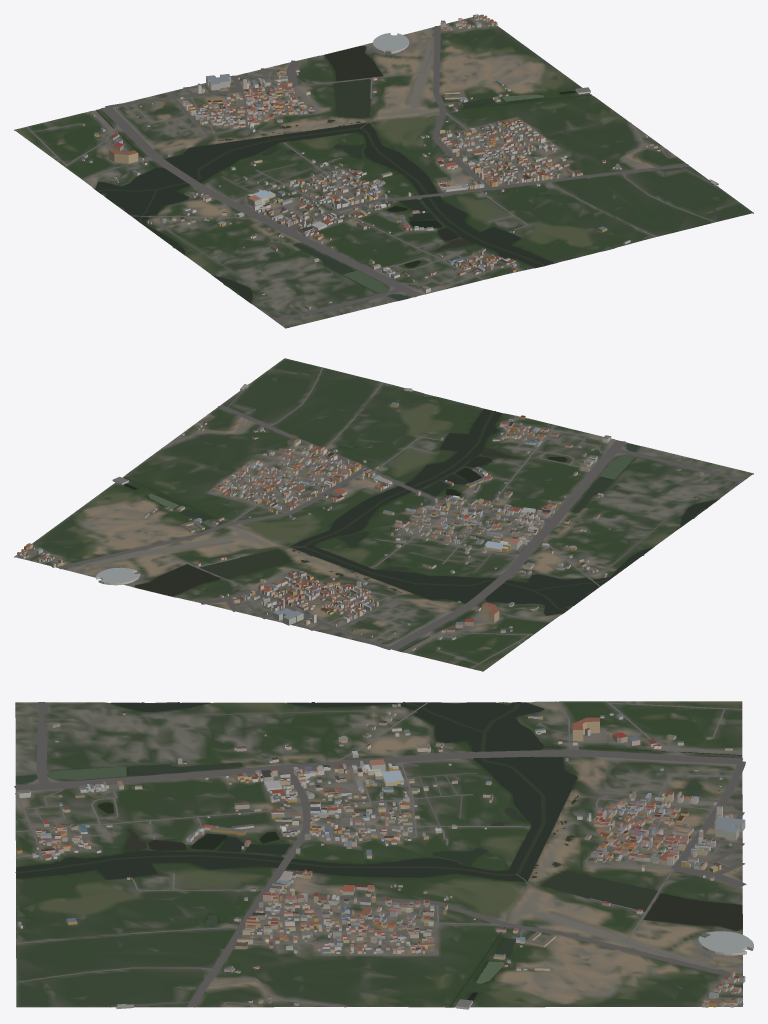
3 views of the same model, one above another, from view 1: azimuth 30°, elevation 25°; view 2: azimuth 150°, elevation 25°; view 3: azimuth 270°, elevation 25° (orthographic). The views are drawn at different scales.
Parts seen in each view (by area): view 1: ground, buildings, water, roads; view 2: ground, buildings, water, roads; view 3: ground, water, buildings, roads.
Boxes of the visible parts, x1,y1,x2,y2 form: ground: (14,16,753,328); buildings: (81,14,718,309); water: (95,45,612,302); roads: (26,15,718,322); ground: (14,358,753,671); buildings: (17,384,703,650); water: (123,394,717,651); roads: (15,367,744,668); ground: (15,701,742,1007); water: (15,702,742,1007); buildings: (16,703,753,1009); roads: (14,701,746,1007).
Bounding box in the file's own units: 1413 × 31.64 × 1427.
